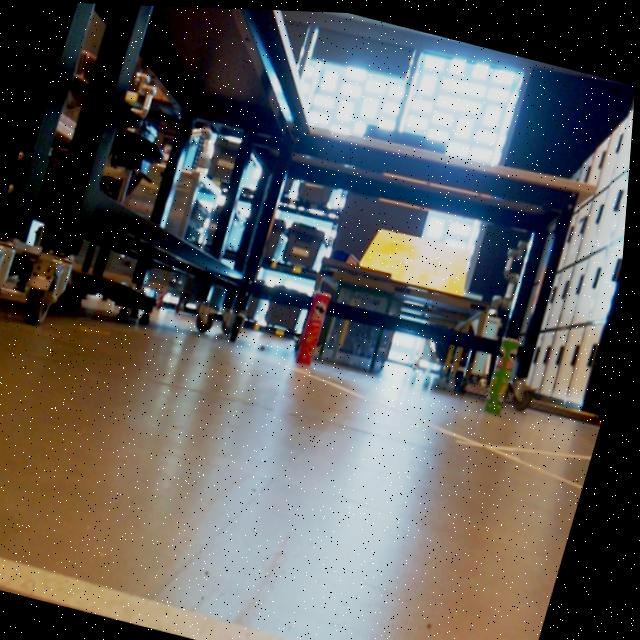greenpringles: (473, 316, 539, 419)
redpringles: (285, 274, 350, 376)
